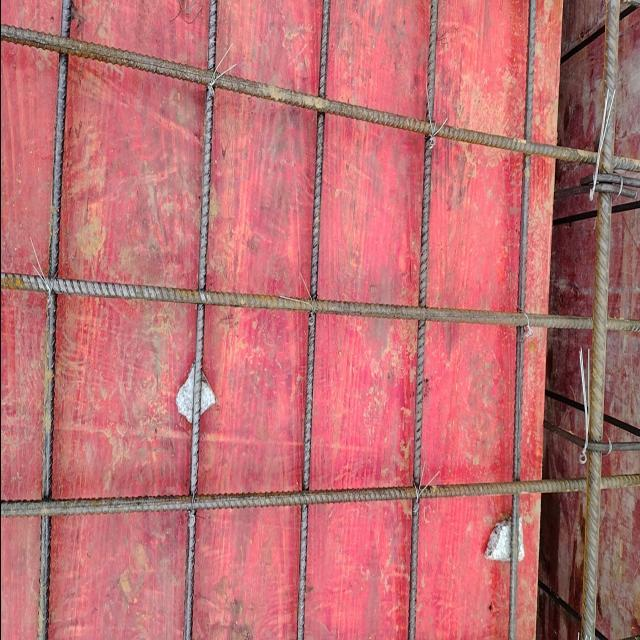ribbed bar: (1, 20, 640, 182), (1, 268, 640, 335), (1, 476, 640, 519), (579, 0, 620, 639), (35, 0, 73, 639), (183, 0, 219, 639), (296, 0, 331, 639), (406, 0, 438, 639), (506, 0, 536, 639)
